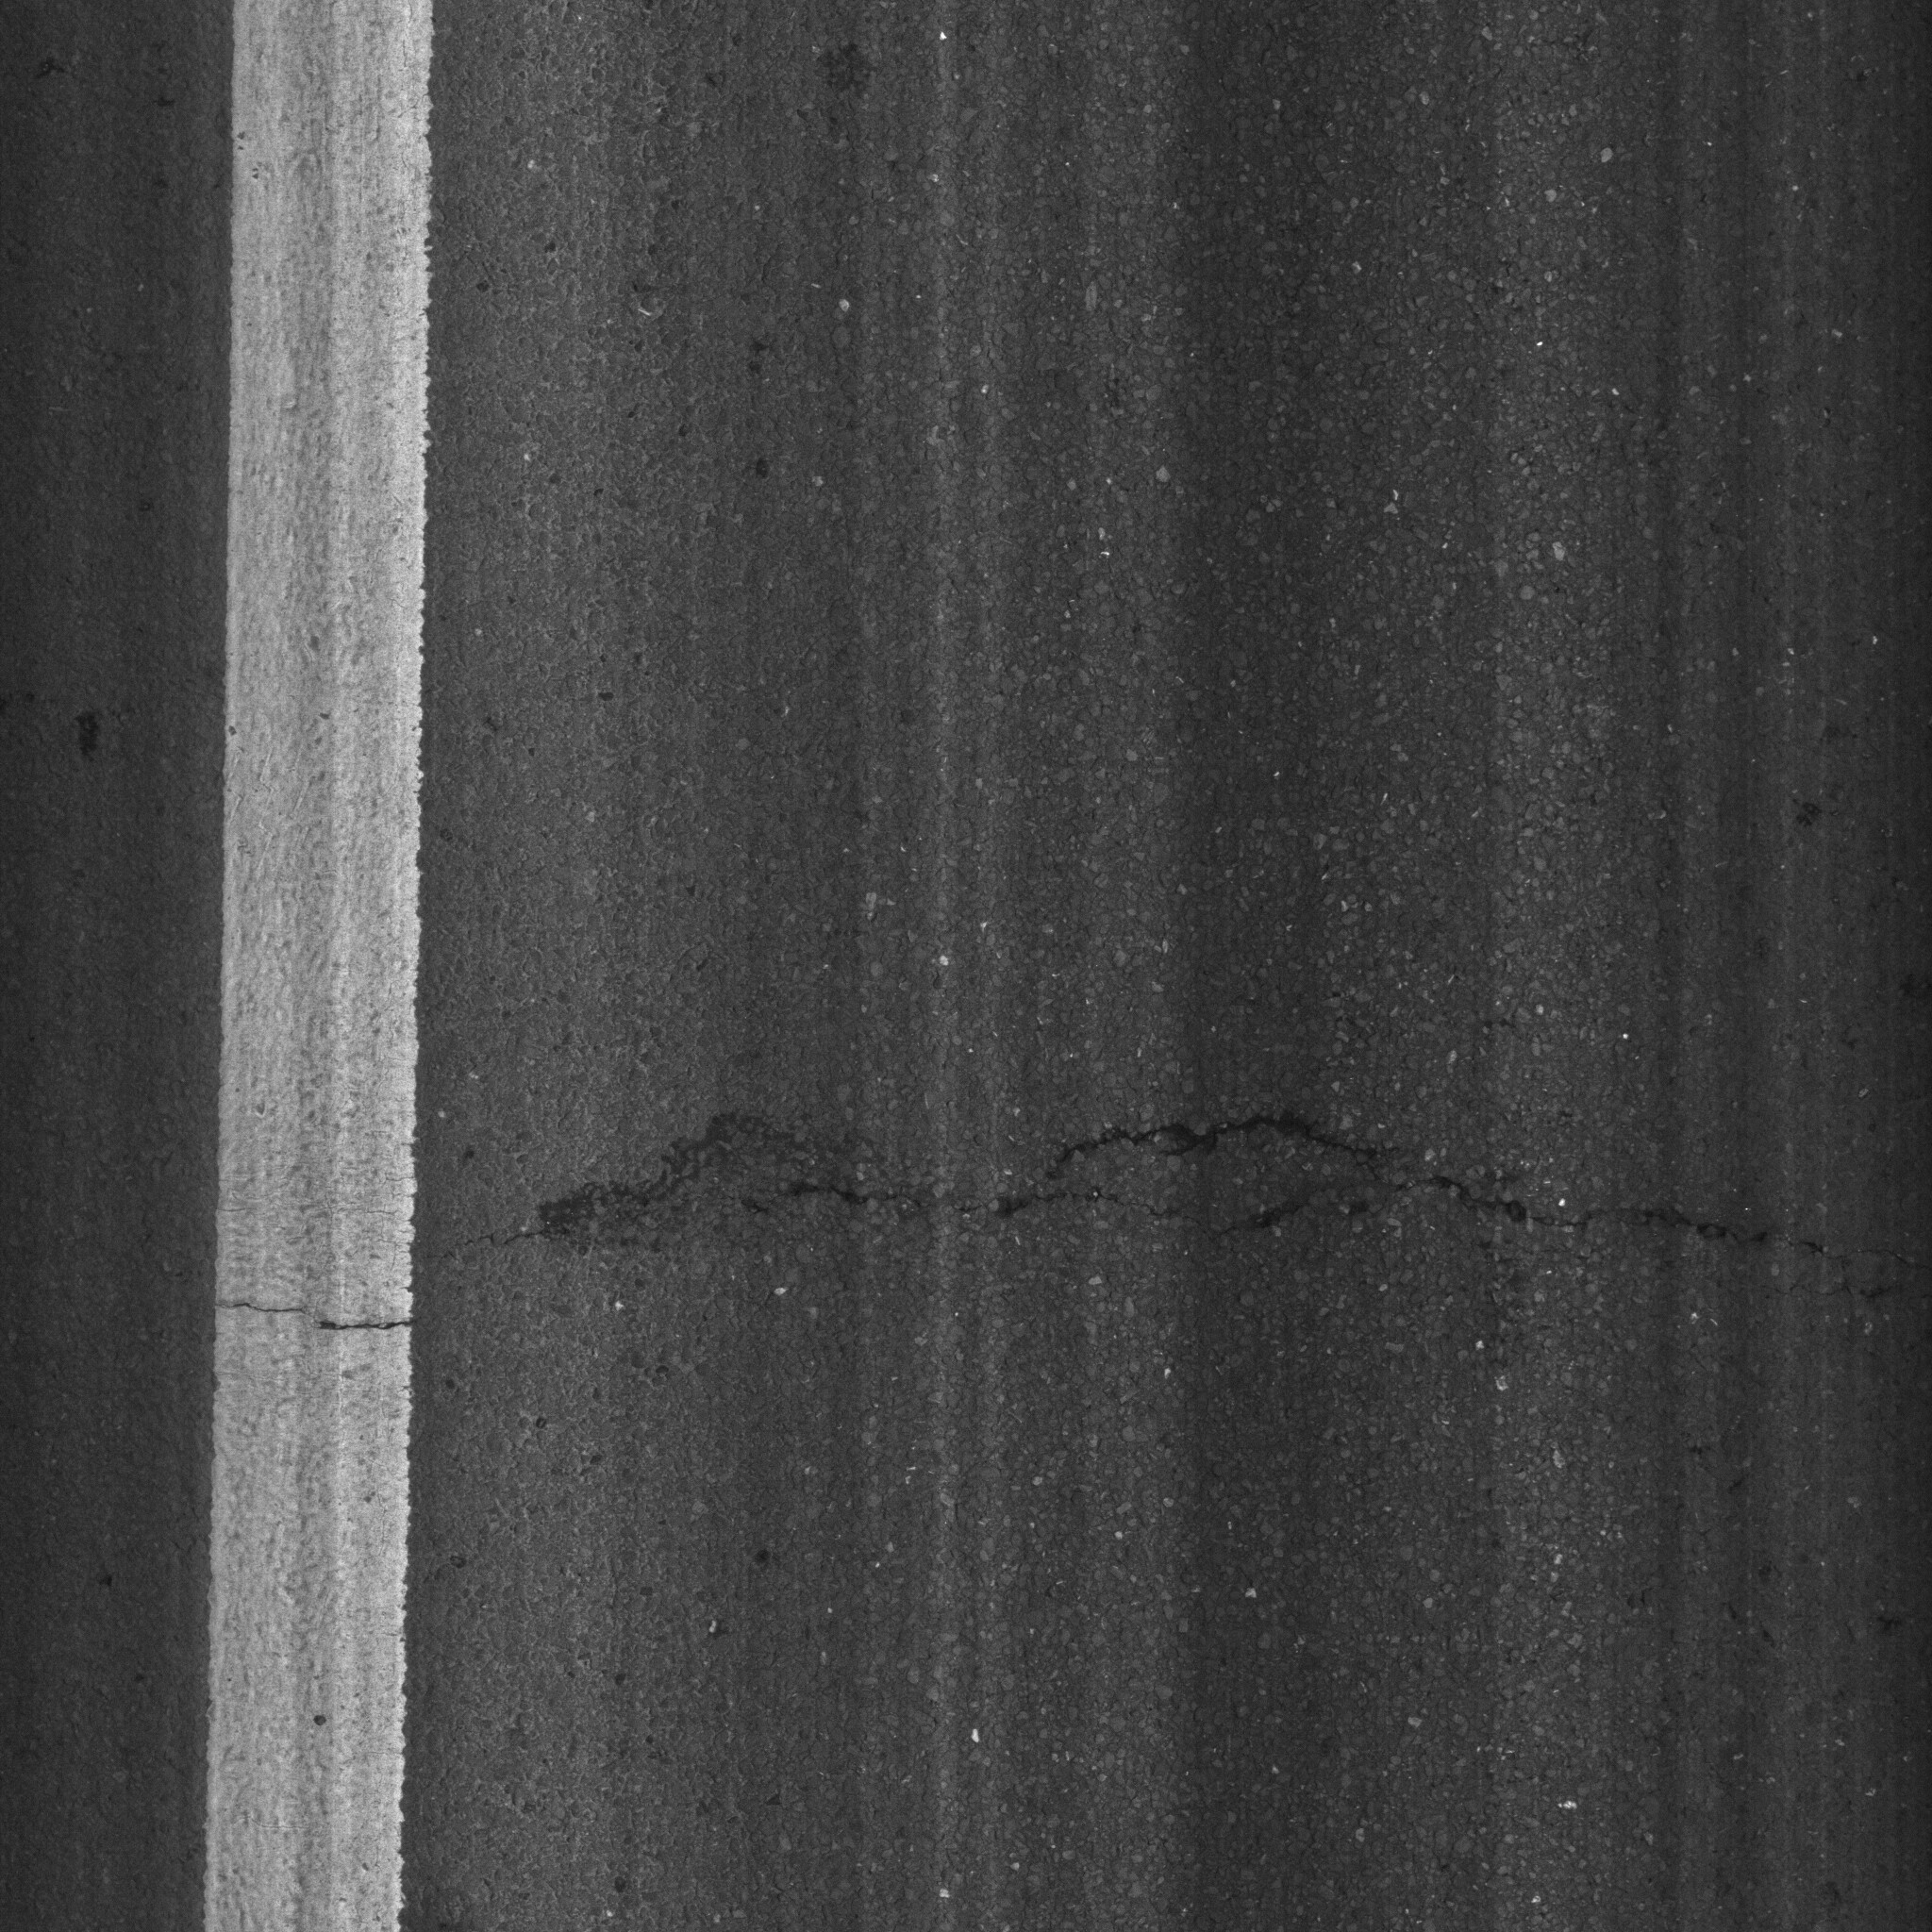transverse: (515, 1076, 1900, 1359)
